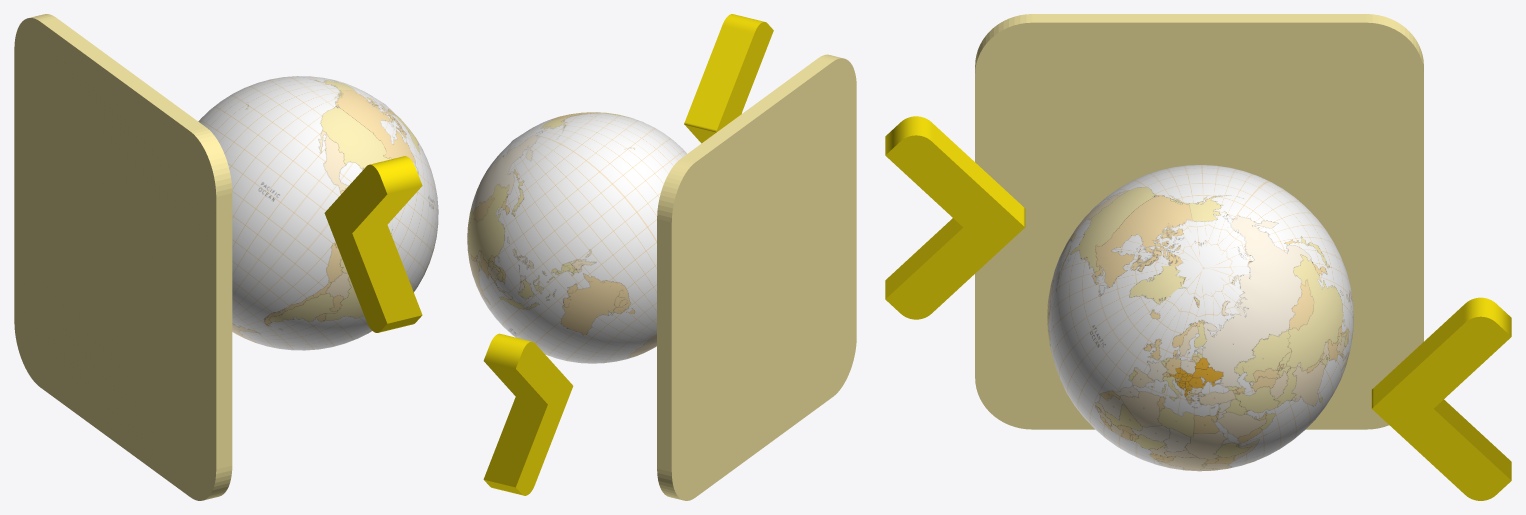
Rendered from ARglobev1.glb.
3 renders of one model, left to right at view 1: azimuth 30°, elevation 25°; view 2: azimuth 150°, elevation 25°; view 3: azimuth 270°, elevation 25°, orthographic. The views are drawn at different scales.
Visible parts, largest first — view 1: Plane, Surface.001, BG; view 2: Plane, Surface.001, BG; view 3: Plane, Surface.001, BG.
Boxes of the visible parts, x1=… form: Plane: x1=14, y1=14, x2=232, y2=500; Surface.001: x1=198, y1=76, x2=438, y2=350; BG: x1=324, y1=156, x2=422, y2=332; Plane: x1=657, y1=54, x2=856, y2=500; Surface.001: x1=467, y1=112, x2=686, y2=363; BG: x1=483, y1=14, x2=773, y2=495; Plane: x1=975, y1=14, x2=1423, y2=429; Surface.001: x1=1047, y1=165, x2=1353, y2=471; BG: x1=885, y1=116, x2=1511, y2=500.
Size of the model in its own units: 9.22 by 10.56 by 14.74.
Materials: 3 (1 with a texture image).
